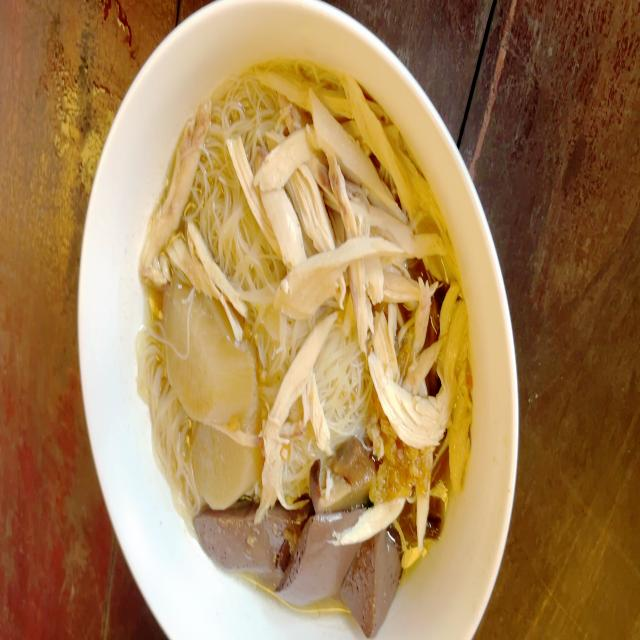boiled_chicken_blood_jelly: (197, 489, 402, 608)
chicken_shredded: (278, 66, 452, 334), (138, 107, 208, 283), (381, 367, 463, 512)
daikon_radish: (162, 278, 268, 449), (190, 422, 262, 507)
noodle: (125, 53, 482, 640)
